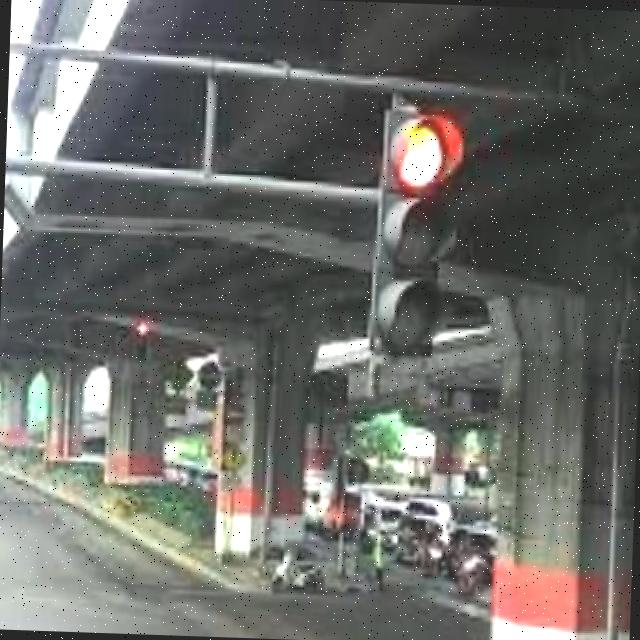Czerwone swiatlo: (377, 108, 444, 353)
